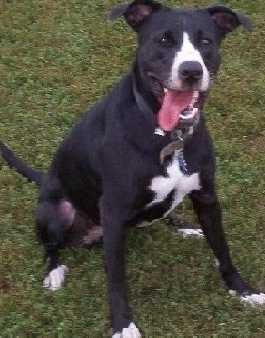Dog: (37, 0, 240, 302)
